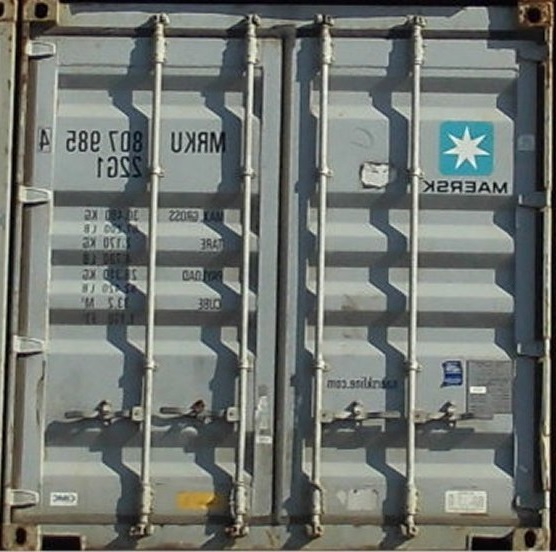container_door: (27, 2, 548, 550)
